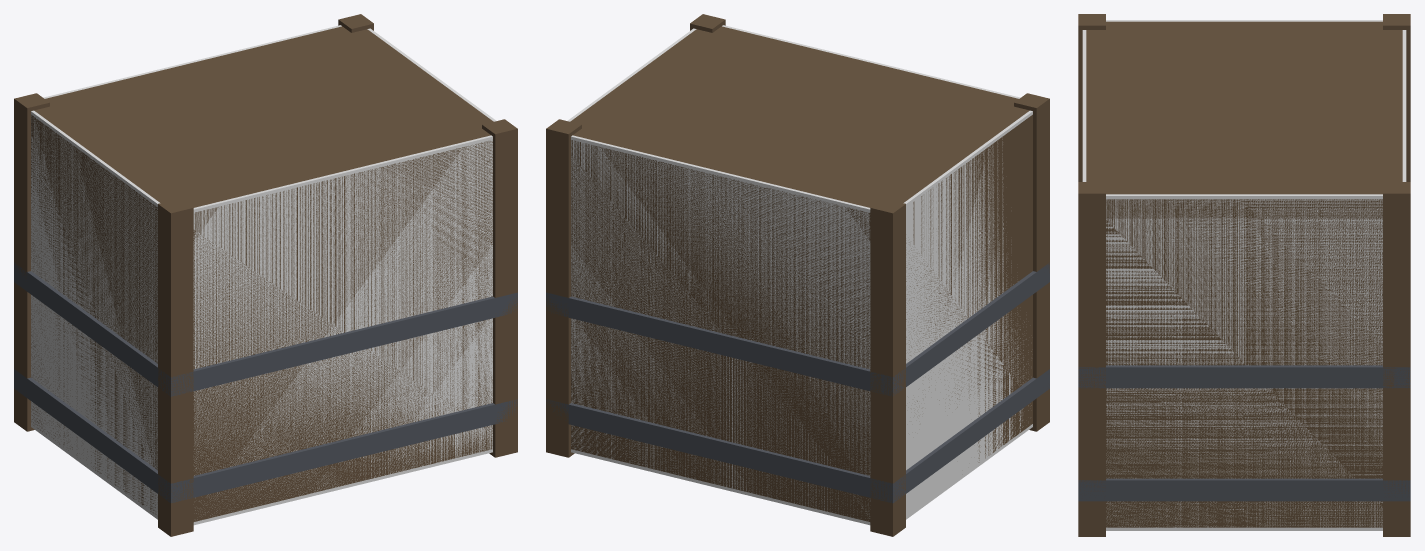
Rendered from crate_step_80.glb.
The picture shows the model from 3 angles, left to right: view 1: azimuth 30°, elevation 25°; view 2: azimuth 150°, elevation 25°; view 3: azimuth 270°, elevation 25°; orthographic projection. The views are drawn at different scales.
Visible parts, largest first — view 1: crate_mesh, crate_step_80-convcol; view 2: crate_mesh, crate_step_80-convcol; view 3: crate_mesh, crate_step_80-convcol.
Part boxes in pixels (x1=…): crate_mesh: x1=14, y1=14, x2=517, y2=536; crate_step_80-convcol: x1=31, y1=25, x2=496, y2=525; crate_mesh: x1=546, y1=14, x2=1049, y2=536; crate_step_80-convcol: x1=567, y1=25, x2=1032, y2=525; crate_mesh: x1=1078, y1=14, x2=1410, y2=536; crate_step_80-convcol: x1=1082, y1=20, x2=1406, y2=530.
Size of the model in its own units: 0.92 by 0.82 by 0.72.
